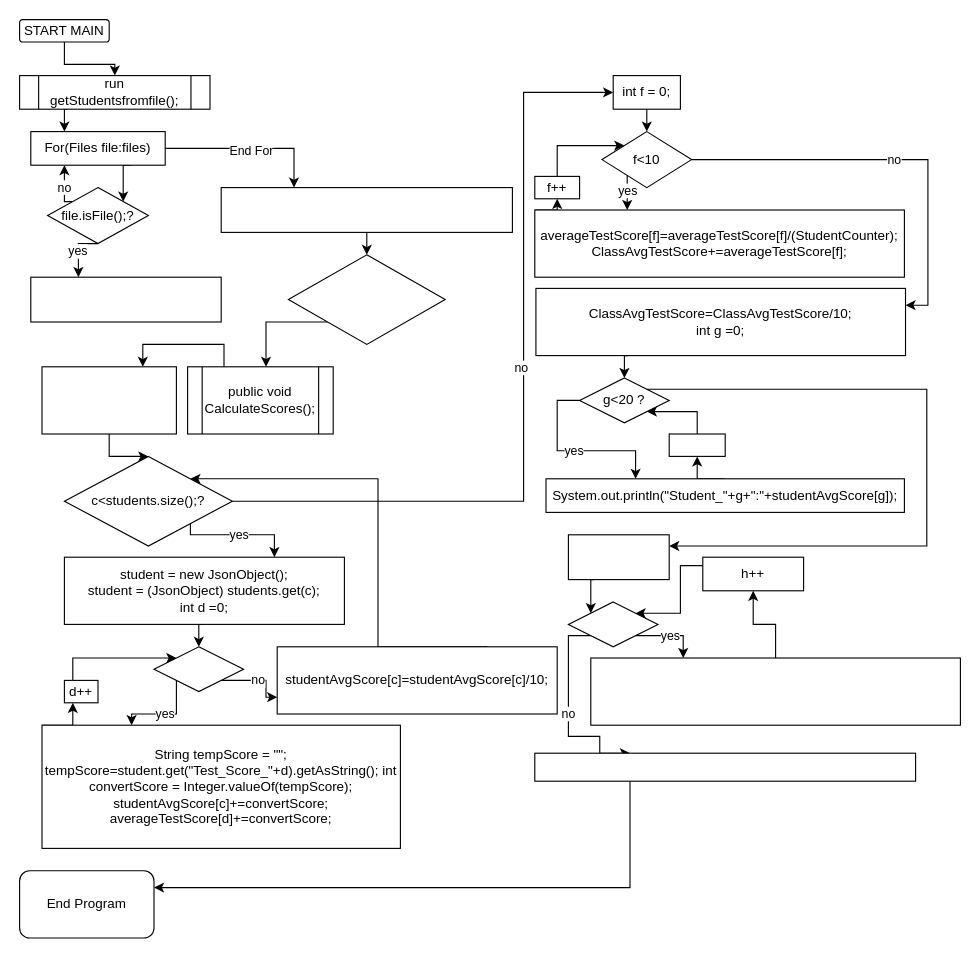
The diagram is 980 pixels wide and 958 high, and some of its shapes have lost their labels. Each missing label, with the centre of its shape:
d<10 ?: (x=198, y=669)
g++: (x=696, y=444)
h<10: (x=612, y=624)
int h = 0: (x=618, y=557)
int testCounter = 10; int c = 0;: (x=108, y=400)
q<results.size();: (x=366, y=299)
results.add(file.getName()); StudentCounter++: (x=125, y=299)
studentAvgScore = new int[StudentCounter];: (x=366, y=209)
System.out.println("Class Average: "+ClassAvgTestScore);: (x=725, y=766)
System.out.println("Test_"+h+":"+averageTestScore[h]);: (x=775, y=691)
